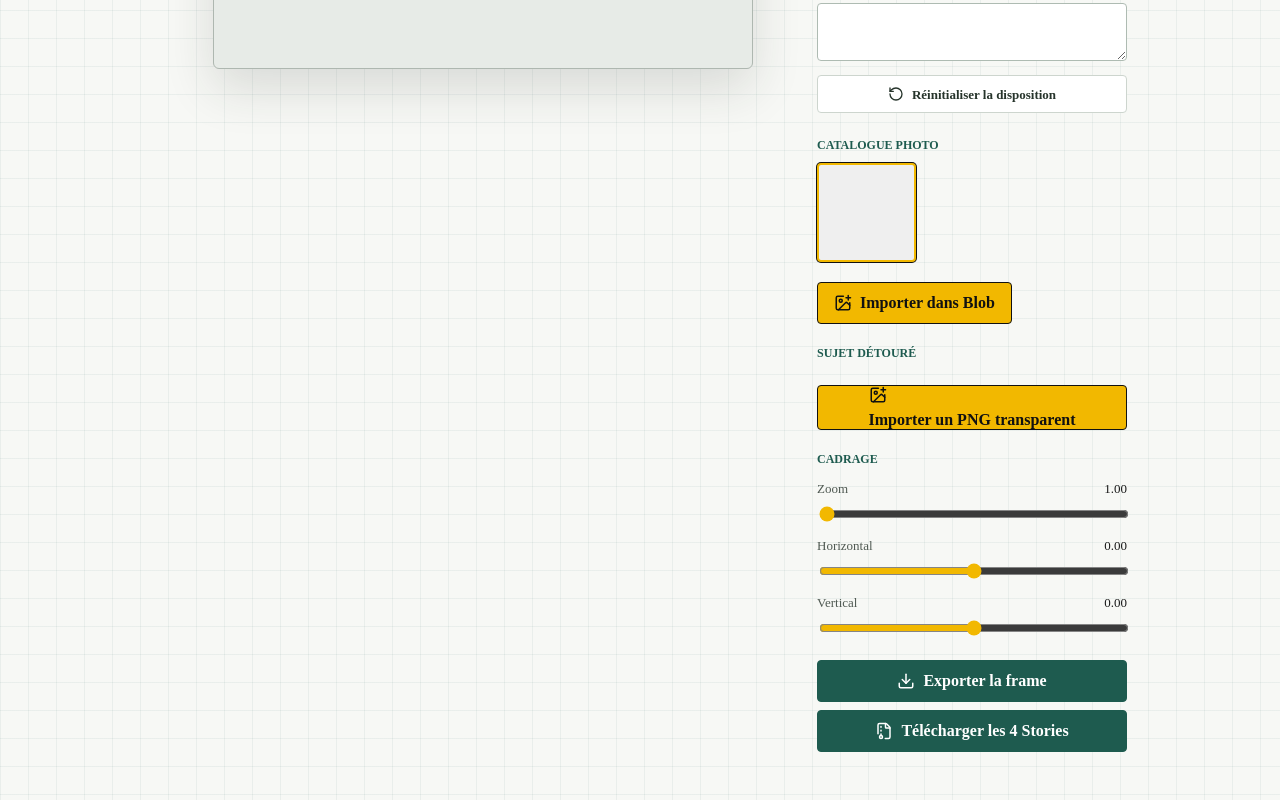
Scenario: saved Story Studio editor › shows ZIP progress and the error on the frame that failed
(page scrolled)
Click the button "Télécharger les 4 Stories": (972,731) [817, 710, 1127, 752]
(page scrolled)
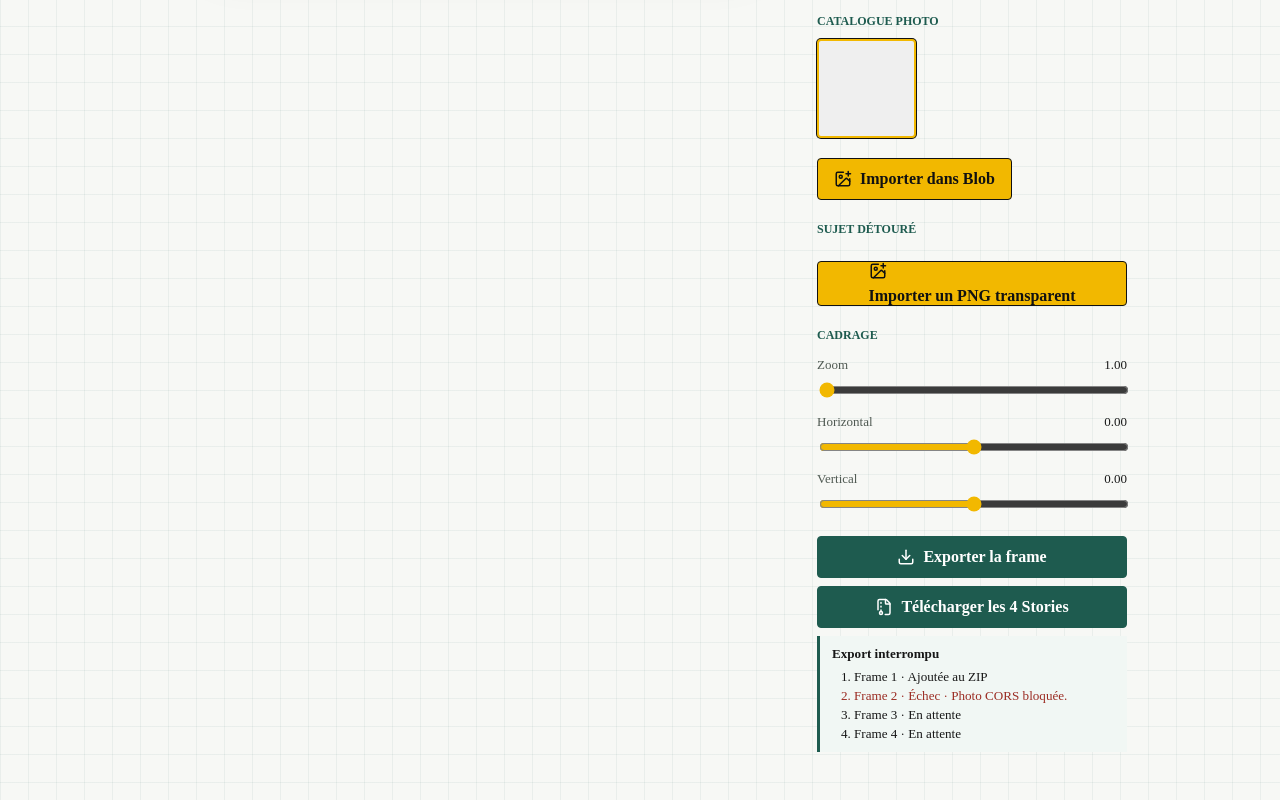
Expected: the message is shown, [817, 636, 1127, 752]
Expected: the text "Frame 1 · Ajoutée au ZIP" is shown, [854, 669, 988, 684]
Expected: the text "Frame 2 · Échec · Photo CORS bloquée." is shown, [854, 688, 1067, 703]
